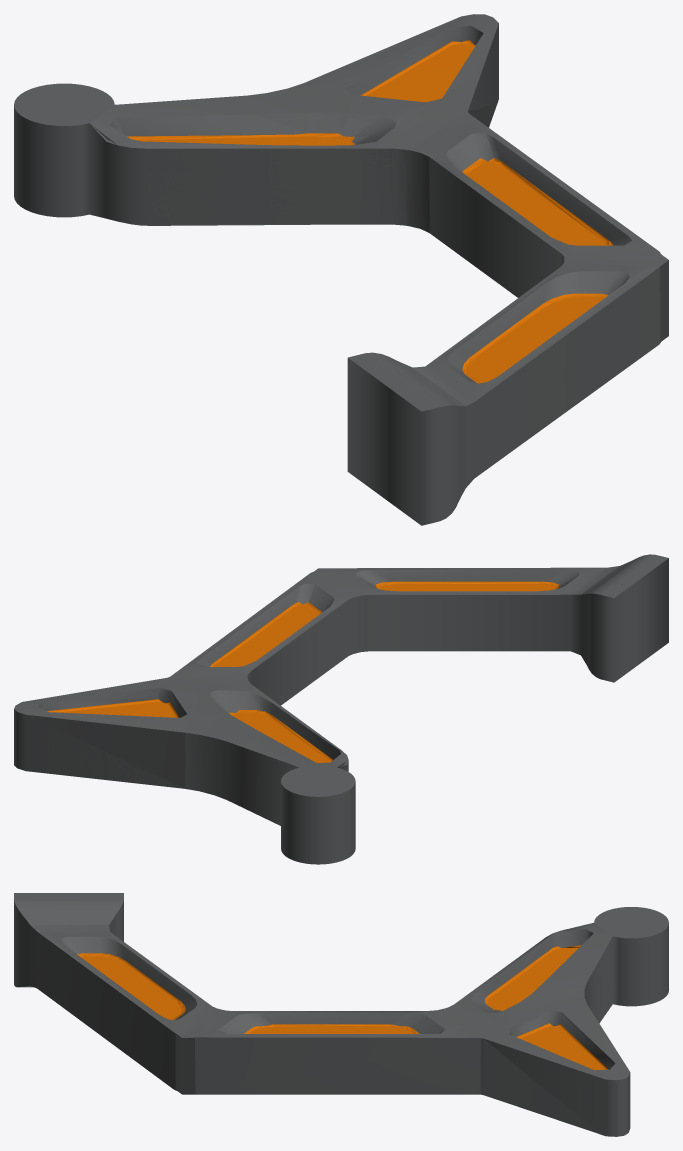
The model's file is clawl.fbx.
The picture shows the model from 3 angles, top to bottom: view 1: azimuth 30°, elevation 25°; view 2: azimuth 150°, elevation 25°; view 3: azimuth 270°, elevation 25°; orthographic projection. The views are drawn at different scales.
Parts seen in each view (by area): view 1: clawl_LOD0, clawl_col; view 2: clawl_LOD0, clawl_col; view 3: clawl_LOD0, clawl_col.
Part boxes in pixels (<box>): clawl_LOD0: <box>14,14,662,525</box>; clawl_col: <box>15,14,668,494</box>; clawl_LOD0: <box>14,554,668,864</box>; clawl_col: <box>16,561,630,825</box>; clawl_LOD0: <box>14,893,668,1136</box>; clawl_col: <box>24,907,667,1135</box>.
Size of what is drawn, in the model's own units: 65.62 by 15 by 105.
